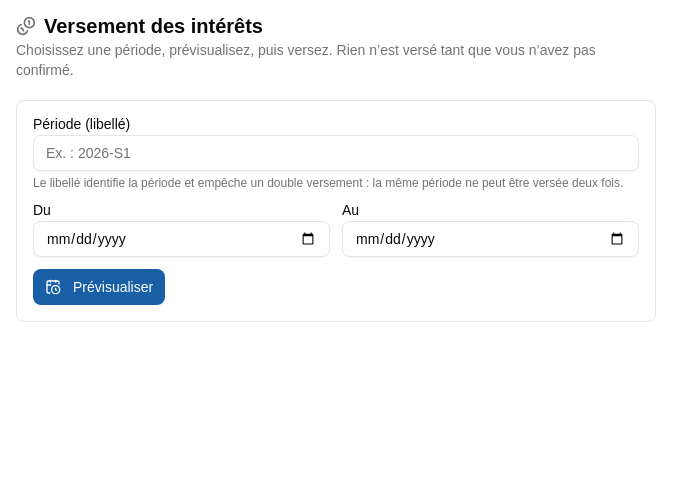
it: PageVersementInterets › période déjà versée : on le DIT clairement (pas d’échec silencieux)
The width and height of the screenshot is (673, 481).
Type "2026-S1" into the field labelled "Période (libellé)" at x=336, y=153, box [33, 135, 639, 171]
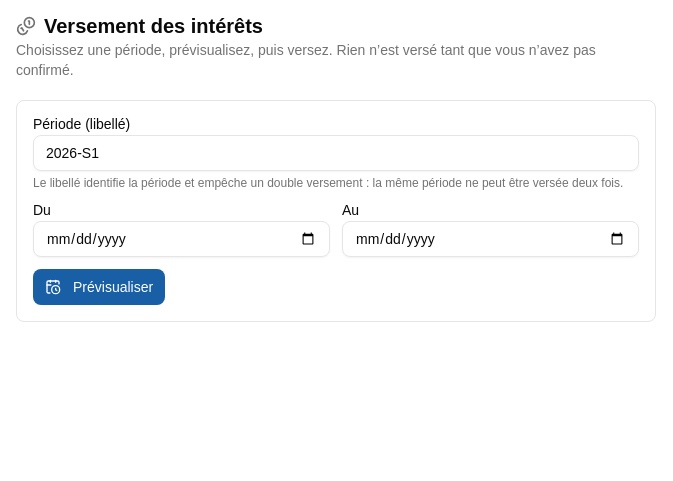
Type "2026-01-01" into the date field labelled "Du" at x=182, y=239, box [33, 221, 330, 257]
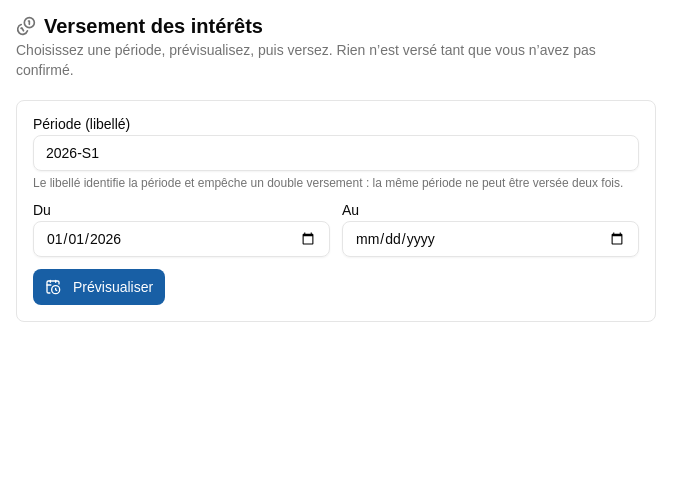
Type "2026-06-30" into the date field labelled "Au" at x=490, y=239, box [342, 221, 639, 257]
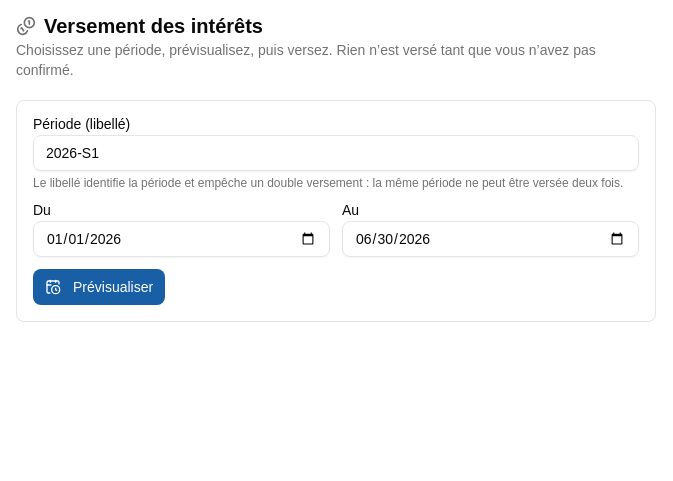
Click the button "Prévisualiser" at x=99, y=287, box [33, 269, 165, 305]
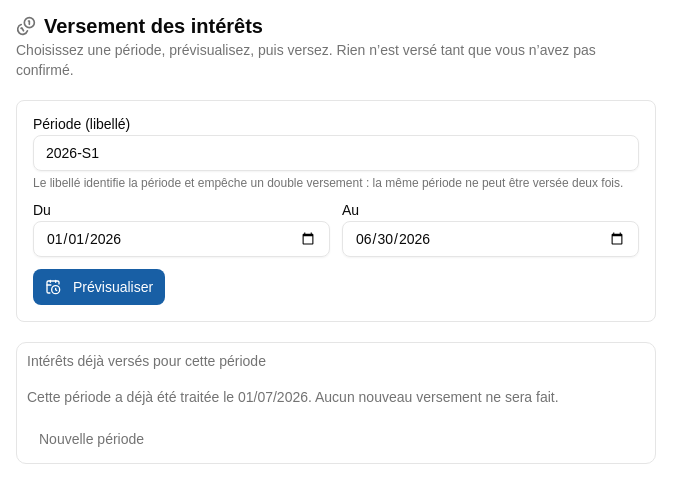
Check: the text "Intérêts déjà versés pour cette période" is shown, box [27, 353, 266, 369]
